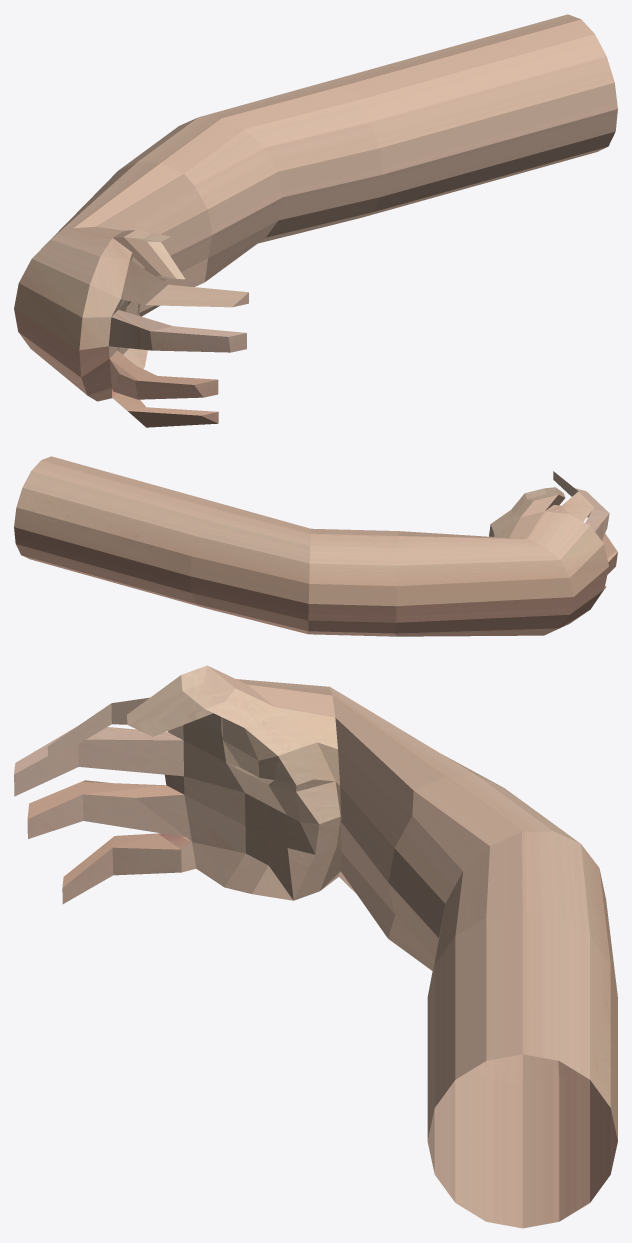
Rendered from hand.fbx.
The picture shows the model from 3 angles, top to bottom: view 1: azimuth 30°, elevation 25°; view 2: azimuth 150°, elevation 25°; view 3: azimuth 270°, elevation 25°; orthographic projection. The views are drawn at different scales.
Parts seen in each view (by area): view 1: Cylinder; view 2: Cylinder; view 3: Cylinder.
Part boxes in pixels (x1,y1,x2,y2): Cylinder: (14,14,617,427); Cylinder: (14,456,617,636); Cylinder: (14,665,617,1228).
Size of the model in its own units: 1049 by 255 by 634.
